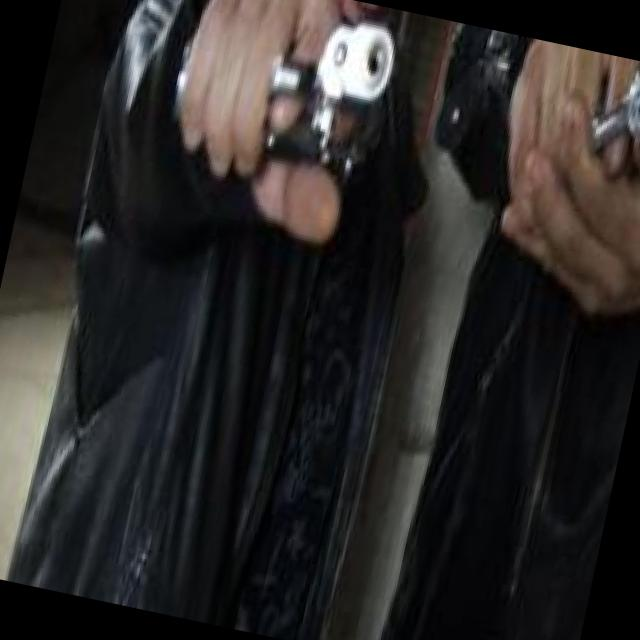Guns: (219, 0, 428, 191), (553, 47, 640, 173)
